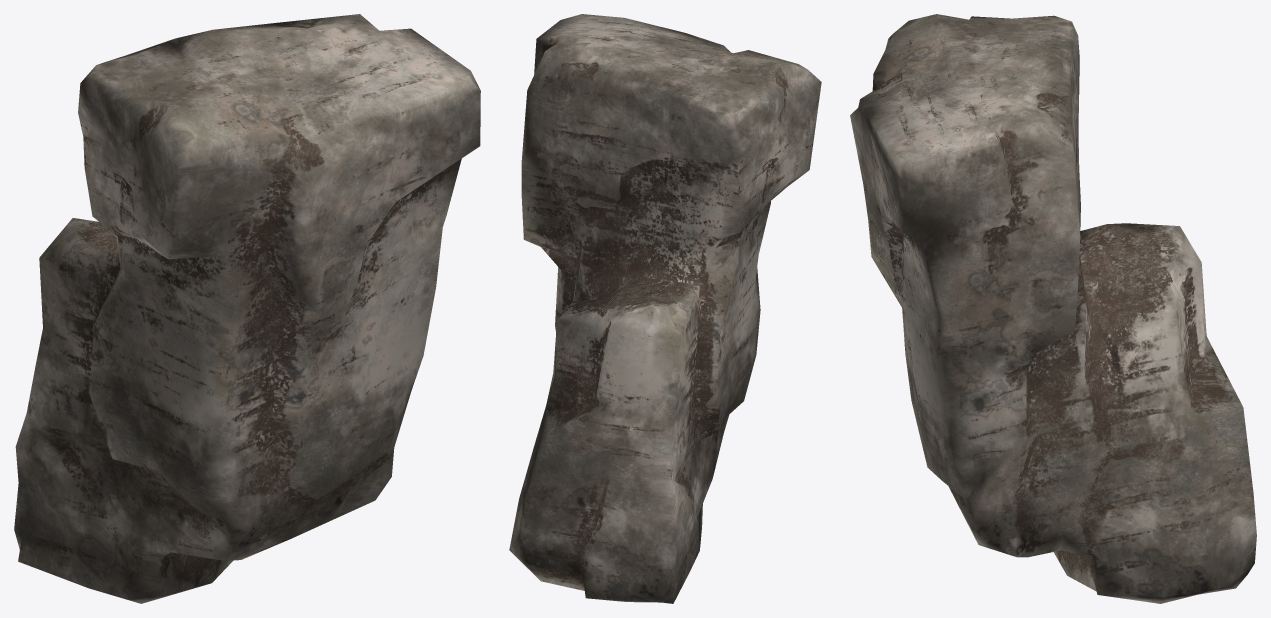
File: Rock_9.fbx
3 views of the same model, side by side, from view 1: azimuth 30°, elevation 25°; view 2: azimuth 150°, elevation 25°; view 3: azimuth 270°, elevation 25° (orthographic). The views are drawn at different scales.
Parts seen in each view (by area): view 1: Rock_9; view 2: Rock_9; view 3: Rock_9.
Boxes of the visible parts, <box> form: Rock_9: <box>14,14,480,603</box>; Rock_9: <box>509,14,821,603</box>; Rock_9: <box>850,14,1256,603</box>.
Size of the model in its own units: 613 by 1085 by 748.
Materials: 1 (1 with a texture image).
